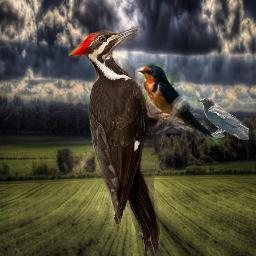Crow: (196, 98, 249, 140)
Swallow: (135, 62, 221, 146)
Woodpecker: (68, 26, 190, 256)
